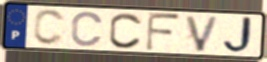C: (107, 11, 145, 50), (31, 8, 67, 47), (69, 10, 105, 48)
F: (144, 11, 183, 53)
J: (221, 16, 257, 56)
V: (183, 14, 222, 53)
